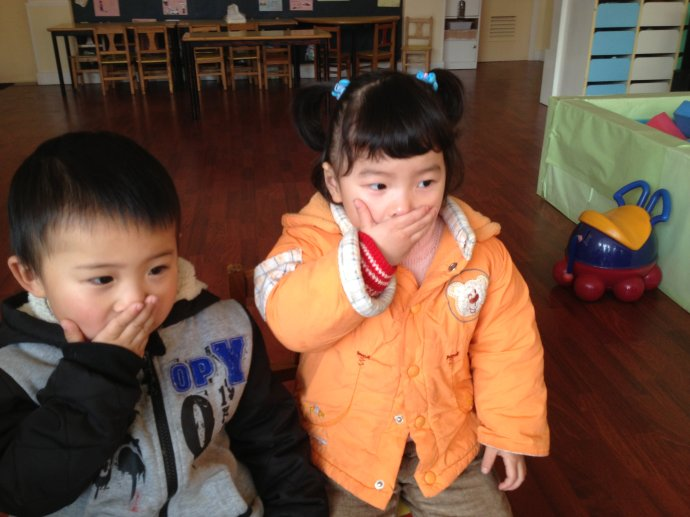face: (47, 211, 177, 350), (345, 130, 447, 245)
